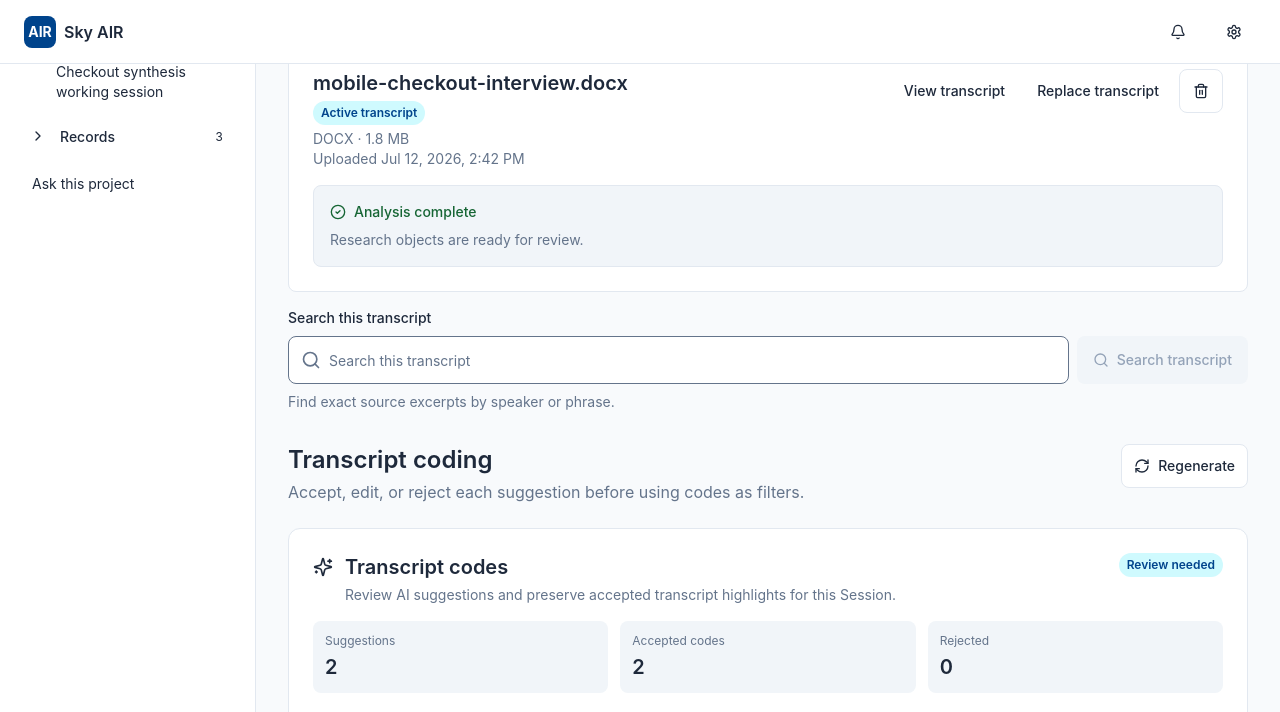
application router foundation › opens a retrieved excerpt in the Transcript context route
(page scrolled)
Step 1. Type "navigation confusion" into the search field labelled "Search this transcript" → {"x": 694, "y": 360}, box left=321, top=337, right=1068, bottom=383
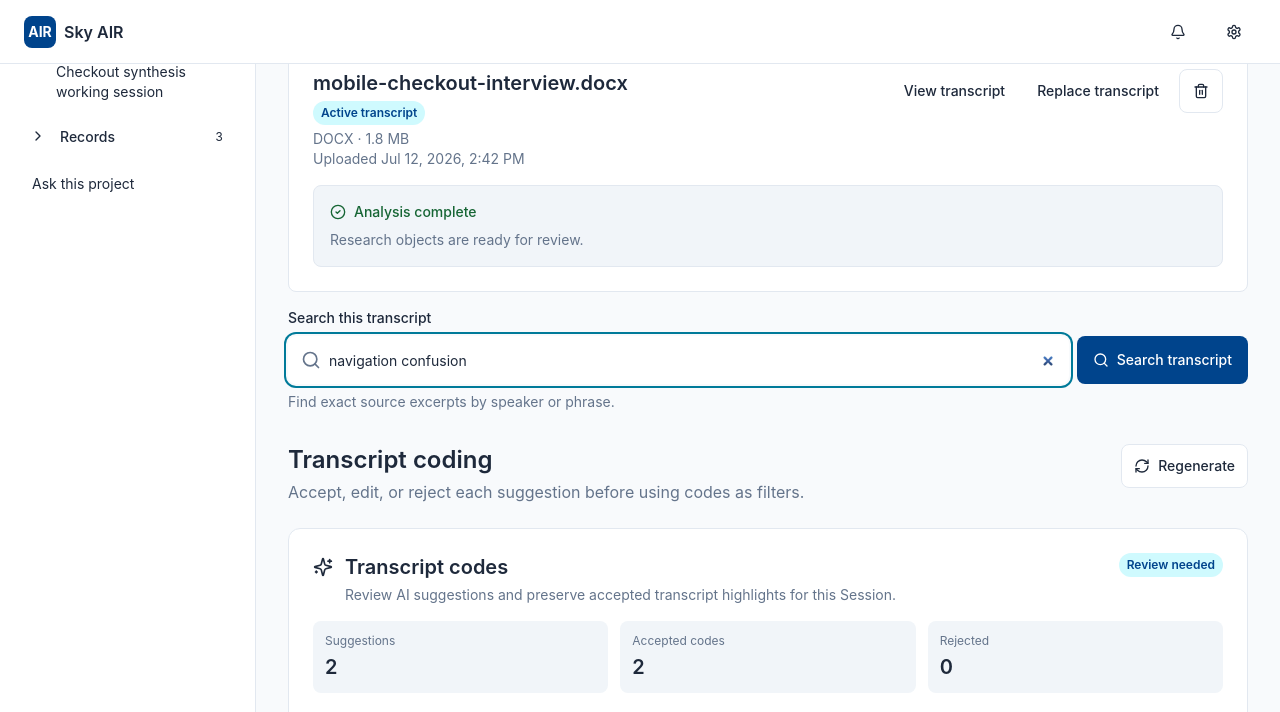
Step 2. Click the button "Search transcript" → {"x": 1162, "y": 360}, box left=1077, top=336, right=1248, bottom=384
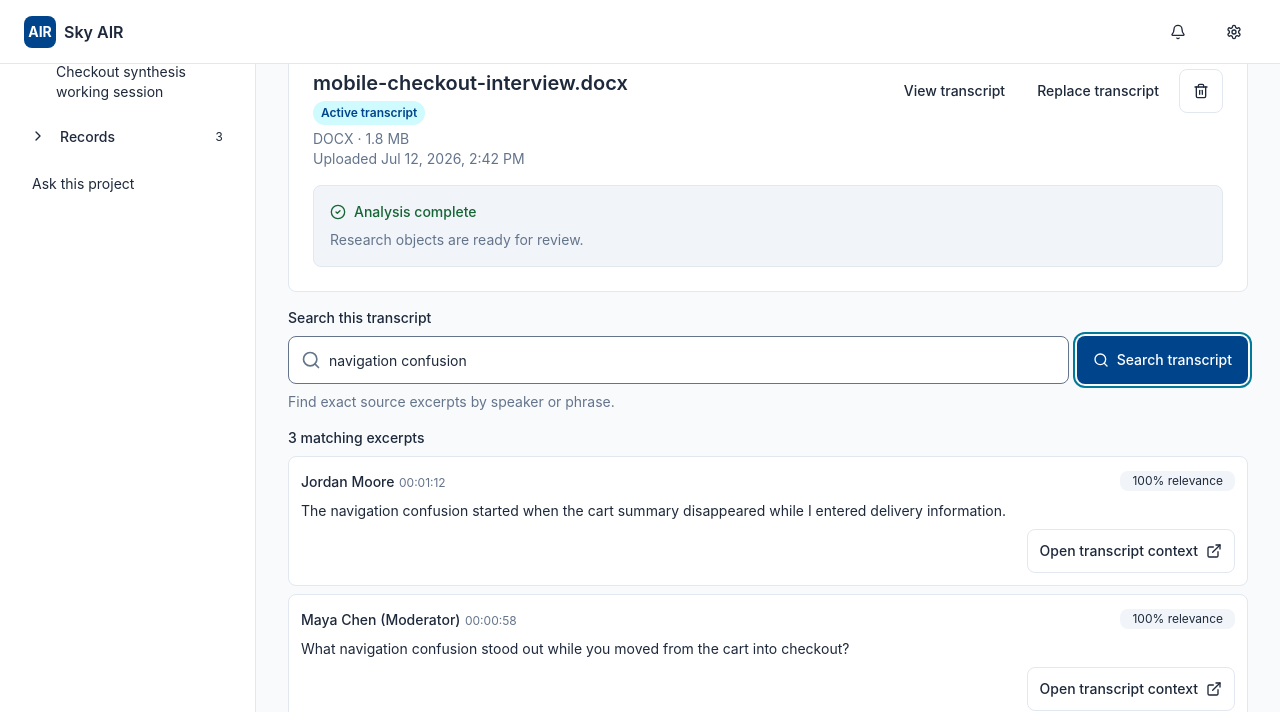
Step 3. Click the 1st link "Open transcript context" → {"x": 1131, "y": 551}, box left=1027, top=529, right=1235, bottom=573
(page scrolled)
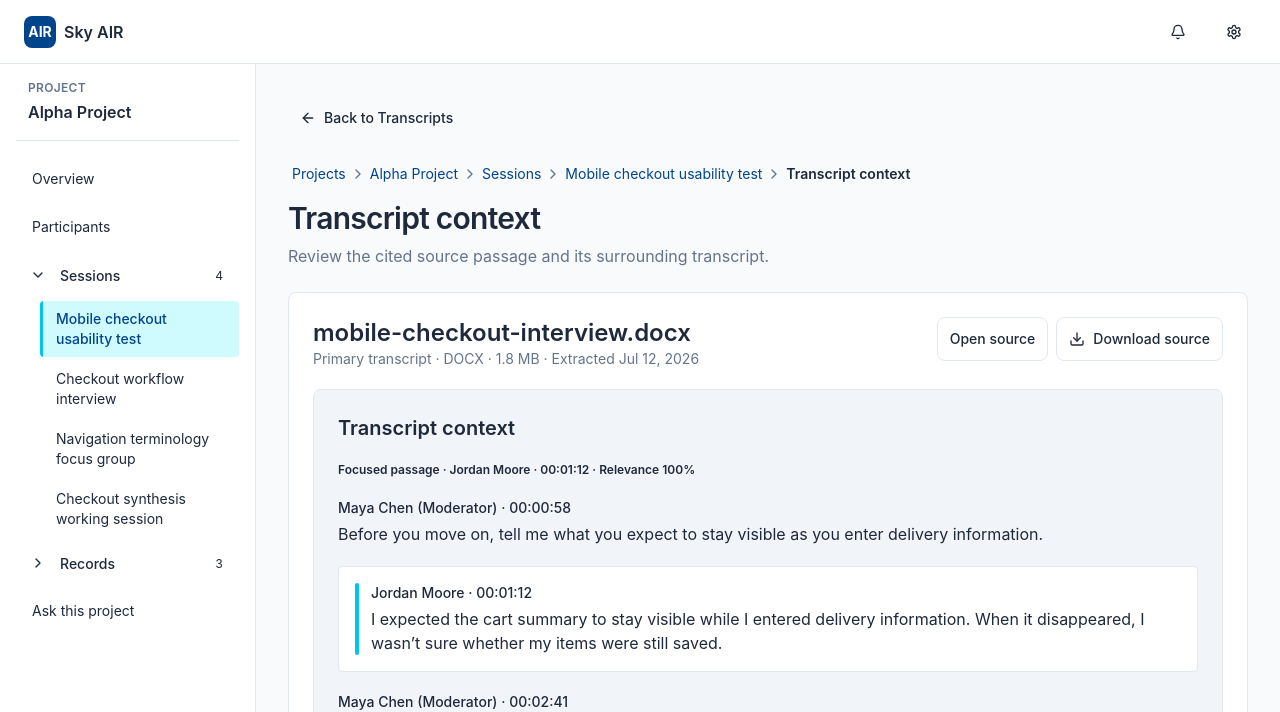
Expected: the heading "Transcript context" below "Projects" is shown, left=288, top=200, right=540, bottom=236
